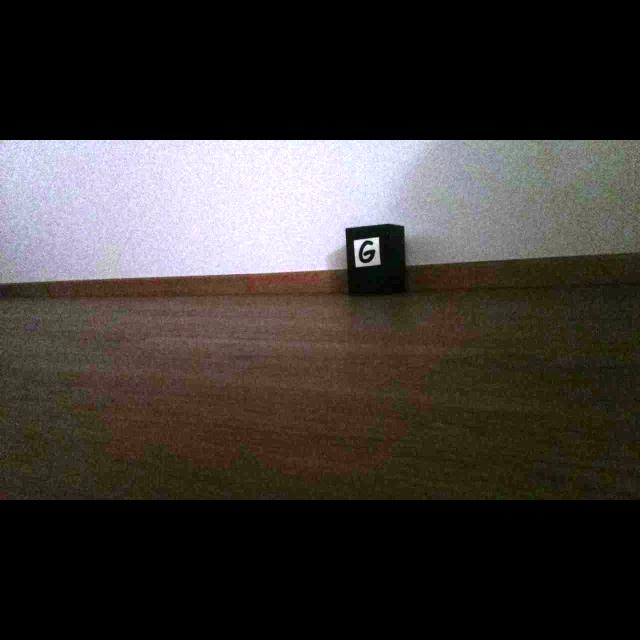G: (359, 241, 376, 263)
